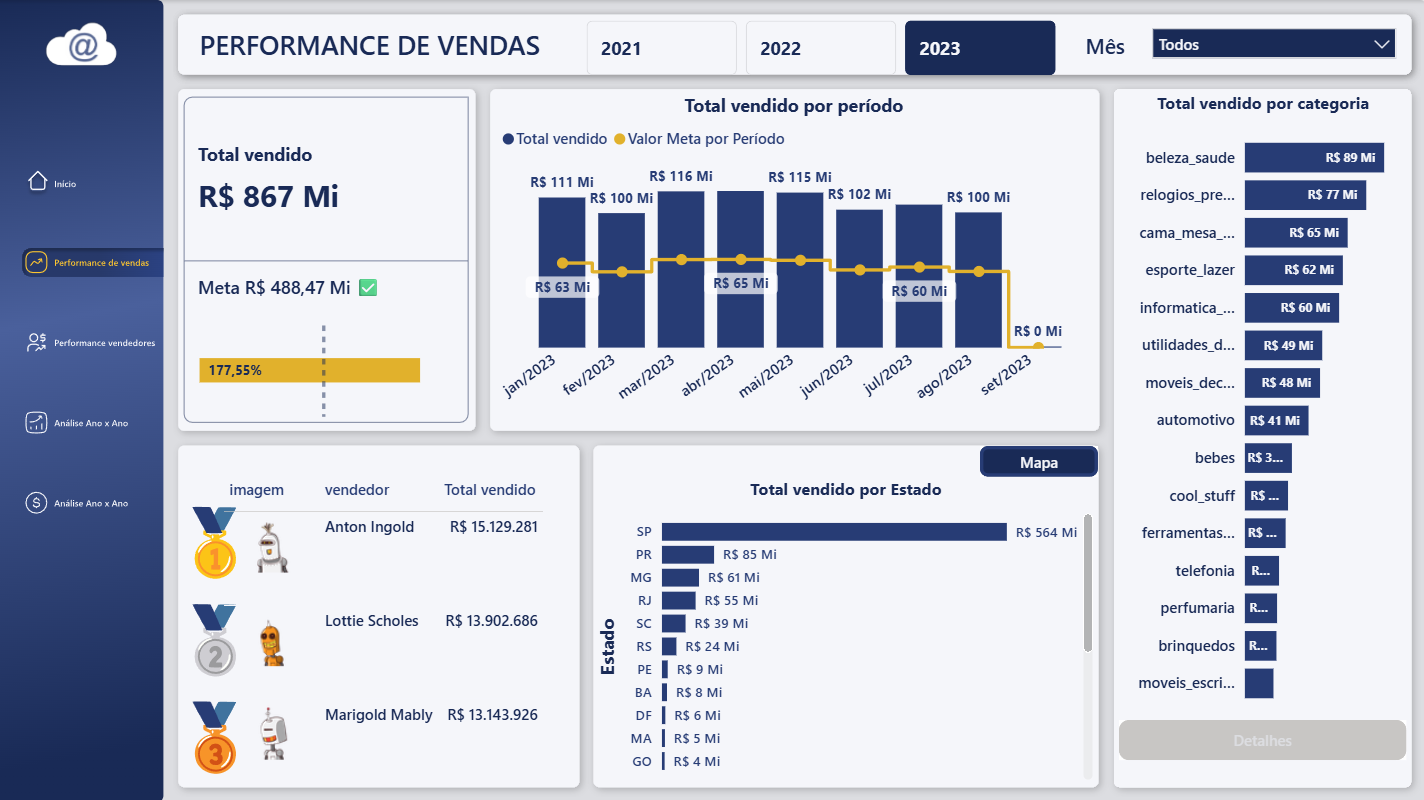

The dashboard page shown, as its layout file describes it:
{"tool":"powerbi","page":{"name":"vendas","canvas":[1280,720],"ordinal":1},"visuals":[{"type":"cardVisual","fields":{"Data":["Medidas.Total vendido"]},"box":[159.8,81.7,266,303.8],"z":0},{"type":"lineClusteredColumnComboChart","title":"Total vendido por período","fields":{"Category":["dCalendario.Mês/ano"],"Y":["Medidas.Total vendido"],"Y2":["Medidas.Valor Meta por Período"]},"box":[445.2,83.4,534.7,295.9],"z":1000},{"type":"clusteredBarChart","title":"Total vendido por categoria","fields":{"Category":["dProdutos.product_category_name"],"Y":["Medidas.Total vendido"]},"box":[1005,82,259,564],"z":2000},{"type":"textbox","box":[174,18,434,48],"z":4000},{"type":"advancedSlicerVisual","fields":{"Values":["dCalendario.Data.Variation.Hierarquia de datas.Ano"]},"box":[521.6,13.8,431.3,59.9],"z":5000},{"type":"slicer","fields":{"Values":["dCalendario.Nome do Mês"]},"box":[1024,15,239,51],"z":6000},{"type":"textbox","box":[970,23,69,35],"z":7000},{"type":"clusteredBarChart","fields":{"Y":["Medidas.% Atingimento da meta"]},"box":[174,279,233,100],"z":8000},{"type":"tableEx","fields":{"Values":["dVendedores.avatar","dVendedores.nome","Medidas.Total vendido"]},"box":[194.9,421.5,326.6,298.5],"z":9000},{"type":"clusteredBarChart","fields":{"Category":["dVendedores.Localidade.Estado","dVendedores.Localidade.Cidade"],"Y":["Medidas.Total vendido"]},"box":[533.3,428.3,452.5,276.7],"z":10000},{"type":"actionButton","title":"BotãoMapa","box":[880,400.8,105.8,27.5],"z":11000},{"type":"actionButton","title":"BotãoMapa","box":[1005,646,258,36],"z":13000},{"type":"pageNavigator","box":[0,137.5,151.3,349.7],"z":13001}]}

Visuals, with their boxes on the page's 1280x720 design canvas (x1, y1, x2, y2). These are canvas units, not pixel positions in the 1424x800 screenshot, which may show the page scaled, cropped or inside an application window:
cardVisual - Medidas.Total vendido: rect(160, 82, 426, 386)
"Total vendido por período" lineClusteredColumnComboChart: rect(445, 83, 980, 379)
"Total vendido por categoria" clusteredBarChart: rect(1005, 82, 1264, 646)
textbox: rect(174, 18, 608, 66)
advancedSlicerVisual - dCalendario.Data.Variation.Hierarquia de datas.Ano: rect(522, 14, 953, 74)
slicer - dCalendario.Nome do Mês: rect(1024, 15, 1263, 66)
textbox: rect(970, 23, 1039, 58)
clusteredBarChart - Medidas.% Atingimento da meta: rect(174, 279, 407, 379)
tableEx - dVendedores.avatar x dVendedores.nome: rect(195, 422, 522, 720)
clusteredBarChart - dVendedores.Localidade.Estado x dVendedores.Localidade.Cidade: rect(533, 428, 986, 705)
"BotãoMapa" actionButton: rect(880, 401, 986, 428)
"BotãoMapa" actionButton: rect(1005, 646, 1263, 682)
pageNavigator: rect(0, 138, 151, 487)
